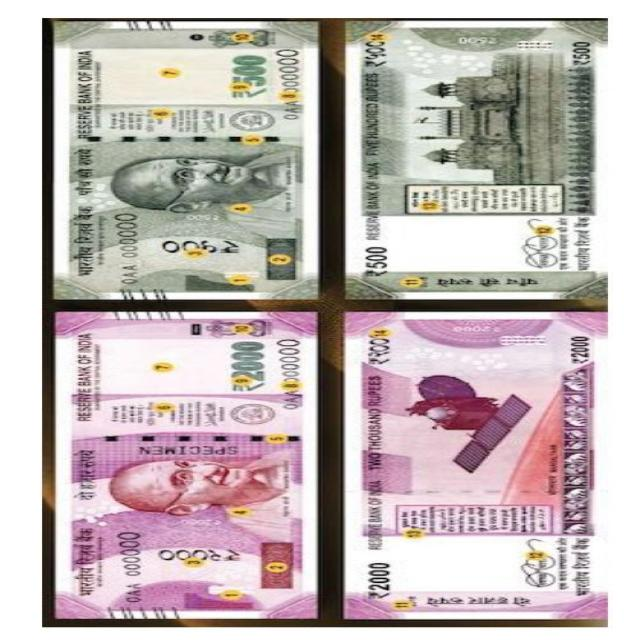500IndianRupees: (341, 19, 606, 299)
